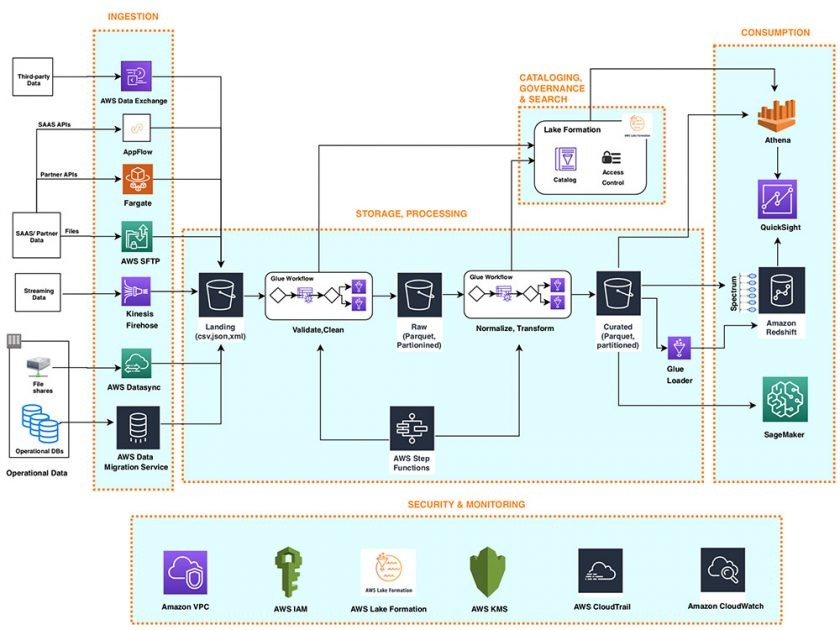cloudtrail: (577, 550, 624, 593)
cloudwatch: (702, 546, 746, 592)
datasync: (124, 352, 150, 376)
fargate: (124, 163, 150, 195)
glue: (669, 338, 690, 359), (352, 282, 366, 294), (353, 298, 366, 310), (551, 280, 564, 292), (554, 296, 565, 310)
kinesis data firehose: (121, 277, 149, 306)
quicksight: (761, 182, 795, 218)
redshift: (762, 269, 804, 311)
s3: (597, 272, 639, 314), (398, 273, 440, 315), (200, 274, 241, 315)
sagemaker: (765, 375, 806, 421)
step functions: (390, 408, 431, 448)
transfer family: (122, 223, 150, 251)
vpc: (164, 550, 205, 594)
